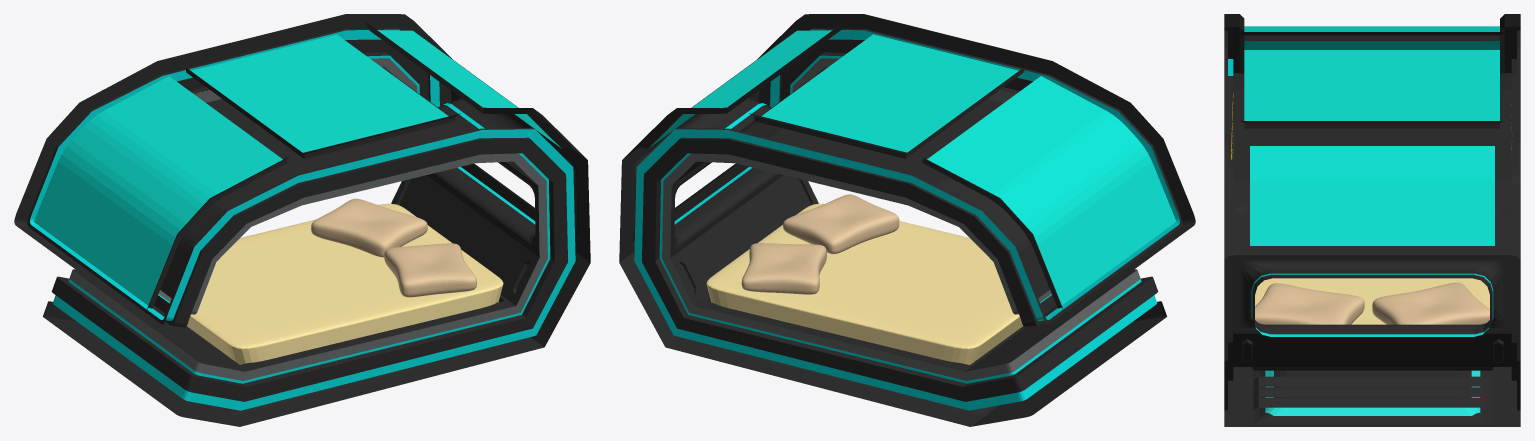
The model's file is bed tech.fbx.
The picture shows the model from 3 angles, left to right: view 1: azimuth 30°, elevation 25°; view 2: azimuth 150°, elevation 25°; view 3: azimuth 270°, elevation 25°; orthographic projection. The views are drawn at different scales.
Parts seen in each view (by area): view 1: ระนาบ, ระนาบ.007, ระนาบ.001, ระนาบ.003, ระนาบ.004, ลูกบาศก์.001, ลูกบาศก์, ระนาบ.005; view 2: ระนาบ, ระนาบ.007, ระนาบ.001, ระนาบ.003, ระนาบ.004, ลูกบาศก์, ลูกบาศก์.001, ระนาบ.005; view 3: ระนาบ, ระนาบ.007, ลูกบาศก์.001, ลูกบาศก์, ระนาบ.001, ระนาบ.006, ระนาบ.008.
Part boxes in pixels (left/top/right/bottom): ระนาบ: left=14, top=14, right=590, bottom=426; ระนาบ.007: left=34, top=30, right=561, bottom=305; ระนาบ.001: left=187, top=203, right=503, bottom=364; ระนาบ.003: left=30, top=29, right=575, bottom=410; ระนาบ.004: left=69, top=58, right=547, bottom=380; ลูกบาศก์.001: left=311, top=198, right=427, bottom=257; ลูกบาศก์: left=384, top=243, right=476, bottom=297; ระนาบ.005: left=68, top=55, right=550, bottom=383; ระนาบ: left=619, top=14, right=1195, bottom=426; ระนาบ.007: left=648, top=30, right=1176, bottom=305; ระนาบ.001: left=706, top=203, right=1022, bottom=364; ระนาบ.003: left=634, top=29, right=1179, bottom=410; ระนาบ.004: left=662, top=58, right=1140, bottom=380; ลูกบาศก์: left=783, top=194, right=899, bottom=254; ลูกบาศก์.001: left=741, top=243, right=826, bottom=294; ระนาบ.005: left=659, top=55, right=1141, bottom=383; ระนาบ: left=1224, top=14, right=1520, bottom=426; ระนาบ.007: left=1244, top=26, right=1499, bottom=245; ลูกบาศก์.001: left=1372, top=282, right=1489, bottom=324; ลูกบาศก์: left=1255, top=283, right=1364, bottom=324; ระนาบ.001: left=1255, top=278, right=1489, bottom=324; ระนาบ.006: left=1265, top=370, right=1480, bottom=415; ระนาบ.008: left=1251, top=273, right=1493, bottom=336.
Bounding box in the file's own units: 11792 × 6472 × 6400.
